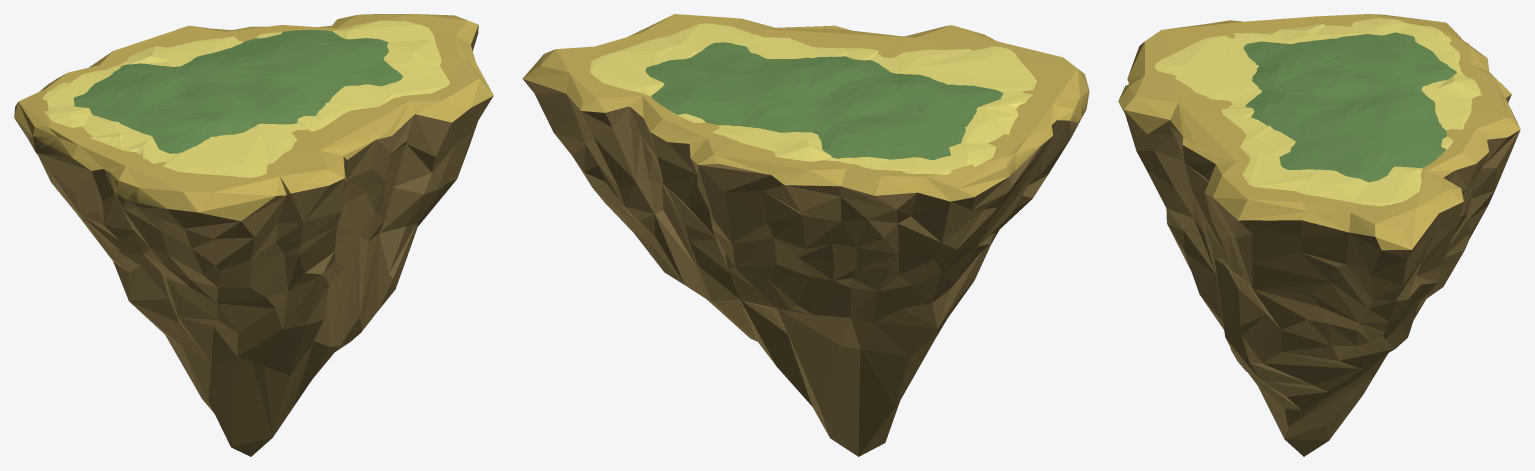
Rendered from MO_Treasure_Island.fbx.
The picture shows the model from 3 angles, left to right: view 1: azimuth 30°, elevation 25°; view 2: azimuth 150°, elevation 25°; view 3: azimuth 270°, elevation 25°; orthographic projection. The views are drawn at different scales.
Visible parts, largest first — view 1: TIsland_Body, TIsland_Ground, TIsland_Grass, TIsland_Sand; view 2: TIsland_Body, TIsland_Ground, TIsland_Grass, TIsland_Sand; view 3: TIsland_Body, TIsland_Ground, TIsland_Grass, TIsland_Sand.
Part boxes in pixels (x1=…): TIsland_Body: x1=15, y1=19, x2=493, y2=456; TIsland_Ground: x1=14, y1=14, x2=493, y2=221; TIsland_Grass: x1=73, y1=30, x2=403, y2=153; TIsland_Sand: x1=42, y1=20, x2=450, y2=177; TIsland_Body: x1=523, y1=25, x2=1081, y2=456; TIsland_Ground: x1=522, y1=14, x2=1089, y2=201; TIsland_Grass: x1=645, y1=42, x2=1002, y2=159; TIsland_Sand: x1=590, y1=23, x2=1036, y2=174; TIsland_Body: x1=1120, y1=37, x2=1520, y2=456; TIsland_Ground: x1=1118, y1=14, x2=1520, y2=250; TIsland_Grass: x1=1243, y1=32, x2=1456, y2=182; TIsland_Sand: x1=1155, y1=18, x2=1481, y2=206.
Bounding box in the file's own units: 546 × 418 × 417.
